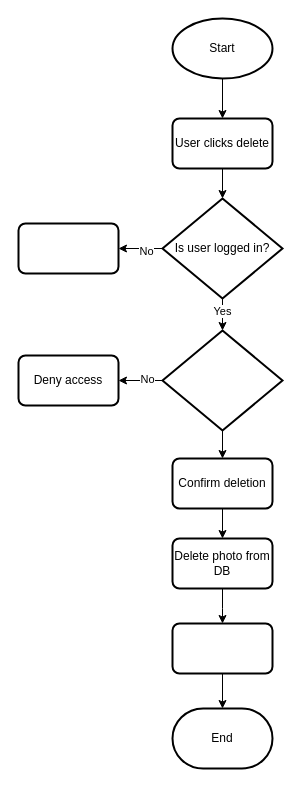
The diagram is 300 pixels wide and 786 high, and some of its shapes have lost their labels. The shapes that lost their labels are listed below. From the top down, each one's centre as x and y in pixels, then its label:
At [68,248]: "Redirect to login".
At [222,380]: "does user own gallery?".
At [222,648]: "Show success".
